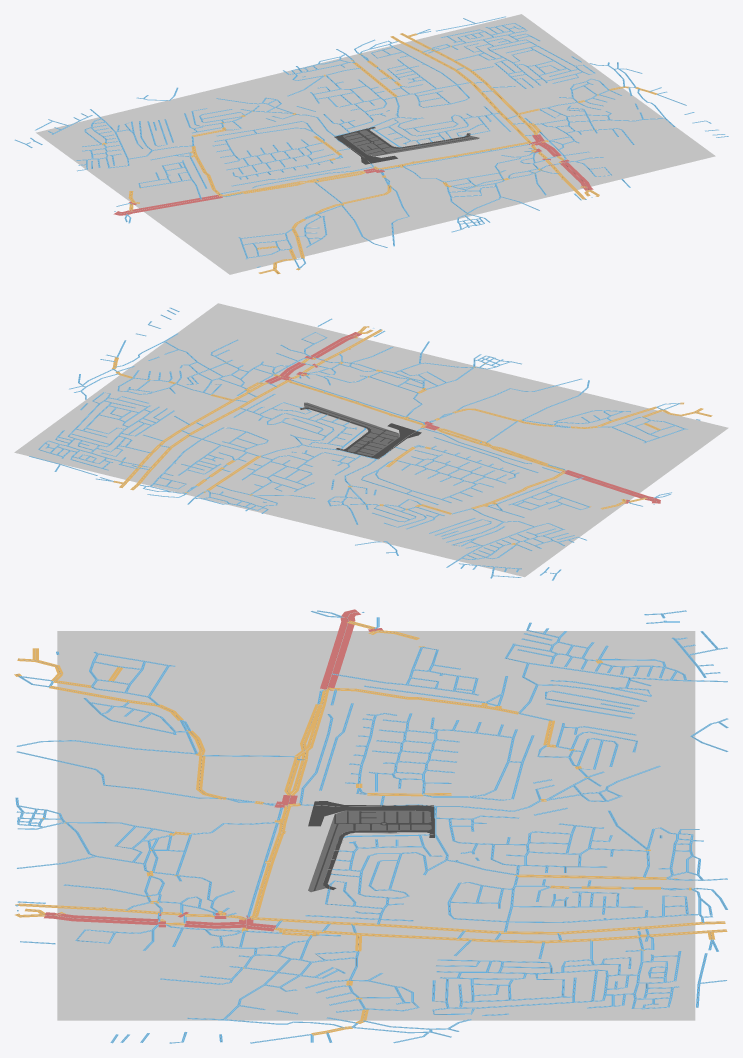
The model's file is Exodus.glb.
3 renders of one model, top to bottom at view 1: azimuth 30°, elevation 25°; view 2: azimuth 150°, elevation 25°; view 3: azimuth 270°, elevation 25°, orthographic. The views are drawn at different scales.
Visible parts, largest first — view 1: Plane, Road_0002_SMALL_CENTERLINE, Floor Floors <434200 Road<, Toposolid Toposolid <392970 Generic - 1000mm<, Road_0010_MEDIUM_CENTERLINE; view 2: Plane, Road_0002_SMALL_CENTERLINE, Floor Floors <434200 Road<, Road_0010_MEDIUM_CENTERLINE, Toposolid Toposolid <392970 Generic - 1000mm<; view 3: Plane, Road_0002_SMALL_CENTERLINE, Road_0010_MEDIUM_CENTERLINE, Floor Floors <434200 Road<, Toposolid Toposolid <392970 Generic - 1000mm<, Road_0655_LARGE_MESH, Road_0849_LARGE_MESH.
Part boxes in pixels (x1=…): Plane: x1=36, y1=14, x2=715, y2=274; Road_0002_SMALL_CENTERLINE: x1=16, y1=16, x2=727, y2=268; Floor Floors <434200 Road<: x1=334, y1=127, x2=476, y2=164; Toposolid Toposolid <392970 Generic - 1000mm<: x1=343, y1=131, x2=479, y2=155; Road_0010_MEDIUM_CENTERLINE: x1=105, y1=33, x2=656, y2=273; Plane: x1=14, y1=303, x2=728, y2=577; Road_0002_SMALL_CENTERLINE: x1=30, y1=308, x2=698, y2=579; Floor Floors <434200 Road<: x1=300, y1=404, x2=421, y2=459; Road_0010_MEDIUM_CENTERLINE: x1=113, y1=326, x2=711, y2=543; Toposolid Toposolid <392970 Generic - 1000mm<: x1=304, y1=402, x2=399, y2=455; Plane: x1=57, y1=631, x2=695, y2=1020; Road_0002_SMALL_CENTERLINE: x1=16, y1=610, x2=727, y2=1043; Road_0010_MEDIUM_CENTERLINE: x1=17, y1=621, x2=726, y2=1034; Floor Floors <434200 Road<: x1=308, y1=801, x2=434, y2=890; Toposolid Toposolid <392970 Generic - 1000mm<: x1=308, y1=810, x2=430, y2=892; Road_0655_LARGE_MESH: x1=325, y1=621, x2=354, y2=674; Road_0849_LARGE_MESH: x1=54, y1=913, x2=158, y2=924.
Bounding box in the file's own units: 3599 × 5 × 2503.
